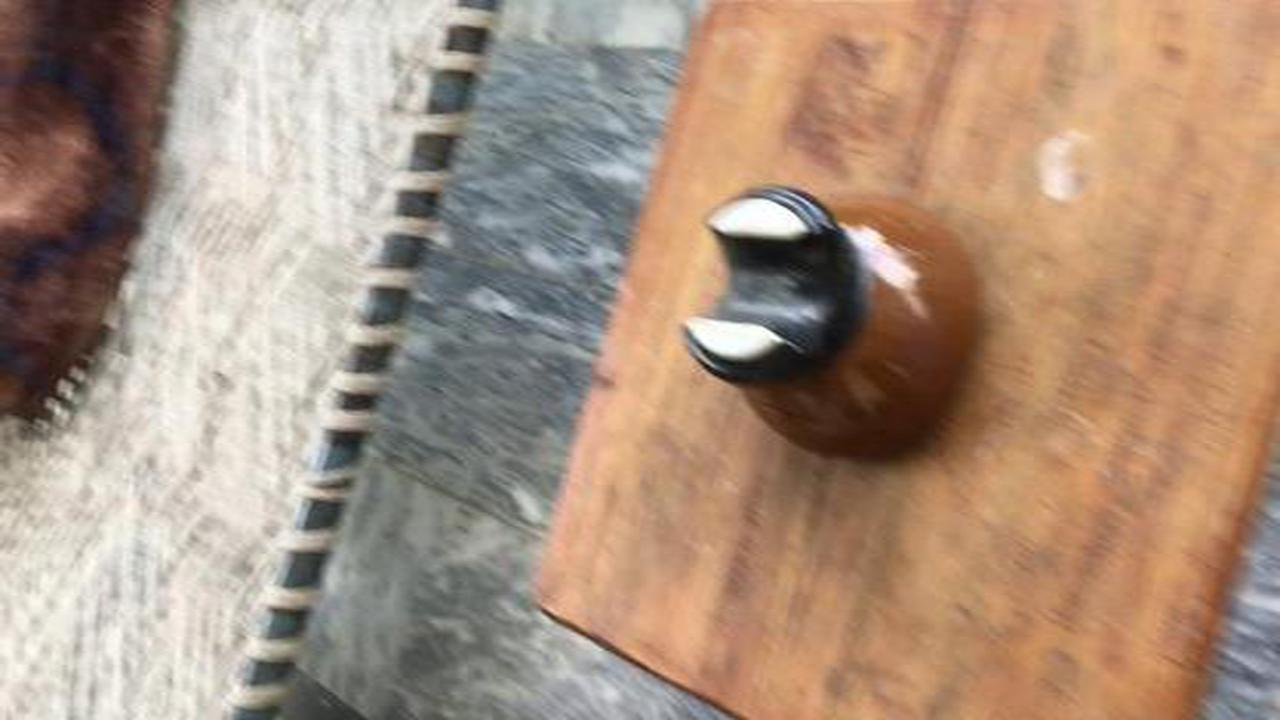insulator_pin: (647, 170, 1010, 476)
